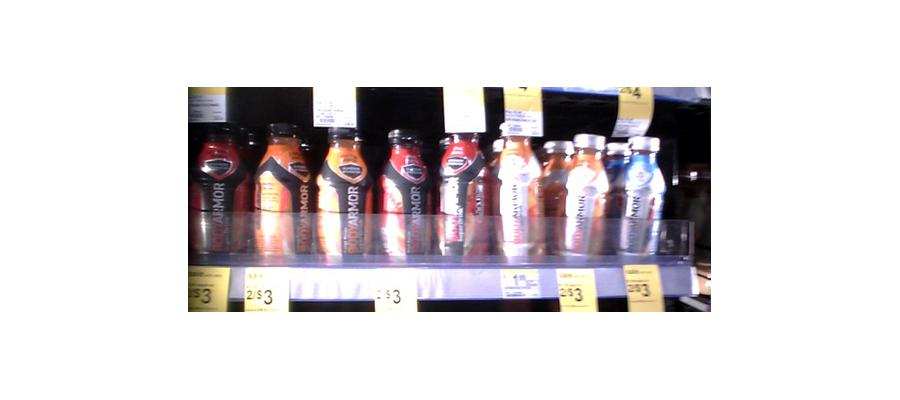bottle: (316, 105, 372, 262), (254, 118, 310, 261), (438, 121, 493, 263), (195, 120, 249, 259), (494, 108, 542, 260), (379, 127, 430, 256), (612, 131, 661, 262), (563, 132, 609, 259)
